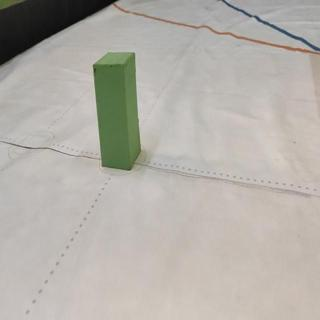greenbox: (93, 51, 140, 171)
